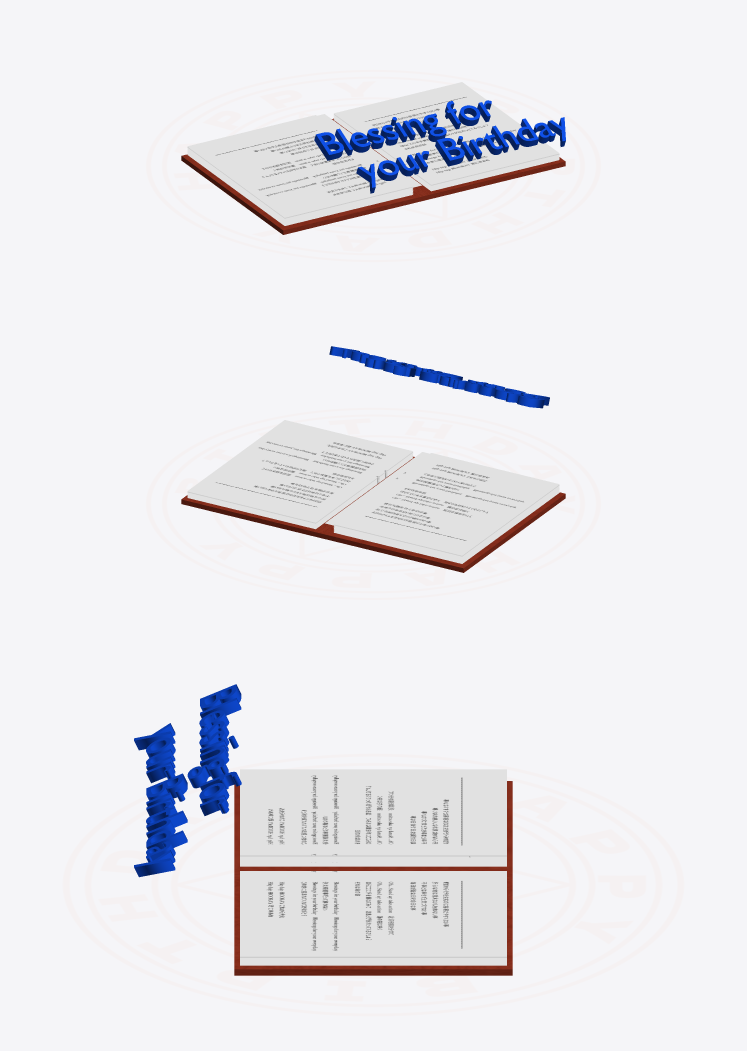
The model's file is book.glb.
3 renders of one model, top to bottom at view 1: azimuth 30°, elevation 25°; view 2: azimuth 150°, elevation 25°; view 3: azimuth 270°, elevation 25°, orthographic. The views are drawn at different scales.
Visible parts, largest first — view 1: 平面.019, 平面.008, 平面.007, テキスト, Cube.002, Cube.001, 平面.018; view 2: 平面.019, 平面.007, 平面.008, テキスト, Cube.002, Cube.001, 平面.018; view 3: 平面.019, 平面.008, 平面.007, テキスト, Cube.001, Cube.002, 平面.018, spine.
Boxes of the visible parts, box(x1,y1,x2,y2) form: 平面.019: box(146, 70, 600, 262); 平面.008: box(187, 115, 412, 217); 平面.007: box(334, 82, 559, 184); テキスト: box(314, 100, 565, 193); Cube.002: box(181, 154, 415, 234); Cube.001: box(332, 118, 565, 198); 平面.018: box(294, 114, 421, 216); 平面.019: box(146, 407, 600, 599); 平面.007: box(187, 420, 412, 522); 平面.008: box(334, 453, 559, 555); テキスト: box(329, 346, 549, 408); Cube.002: box(331, 492, 565, 572); Cube.001: box(181, 456, 414, 536); 平面.018: box(325, 452, 452, 554); 平面.019: box(62, 753, 684, 1016); 平面.008: box(240, 769, 506, 855); 平面.007: box(240, 871, 506, 956); テキスト: box(134, 684, 241, 877); Cube.001: box(234, 881, 512, 975); Cube.002: box(234, 781, 512, 869); 平面.018: box(240, 856, 506, 862); spine: box(234, 869, 512, 880).
Size of the model in its own units: 2.31 by 0.4597 by 2.31.
6 materials, 4 textured.
